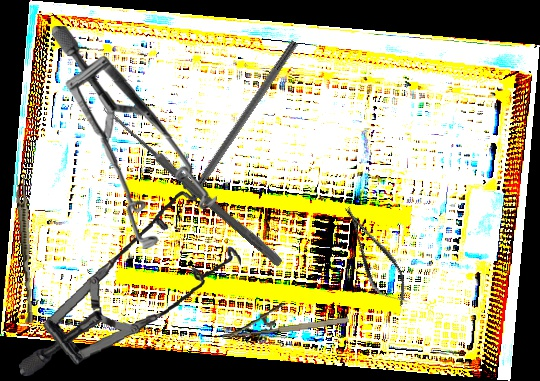Hook Surgical: (167, 38, 300, 227)
Micro Scissor: (333, 198, 417, 314)
Needle Holder: (218, 296, 350, 340)
Speculum: (4, 178, 250, 377), (48, 26, 221, 250)
Surgical Spoon: (99, 103, 285, 268)
Tissue Forceps: (12, 175, 39, 324)
